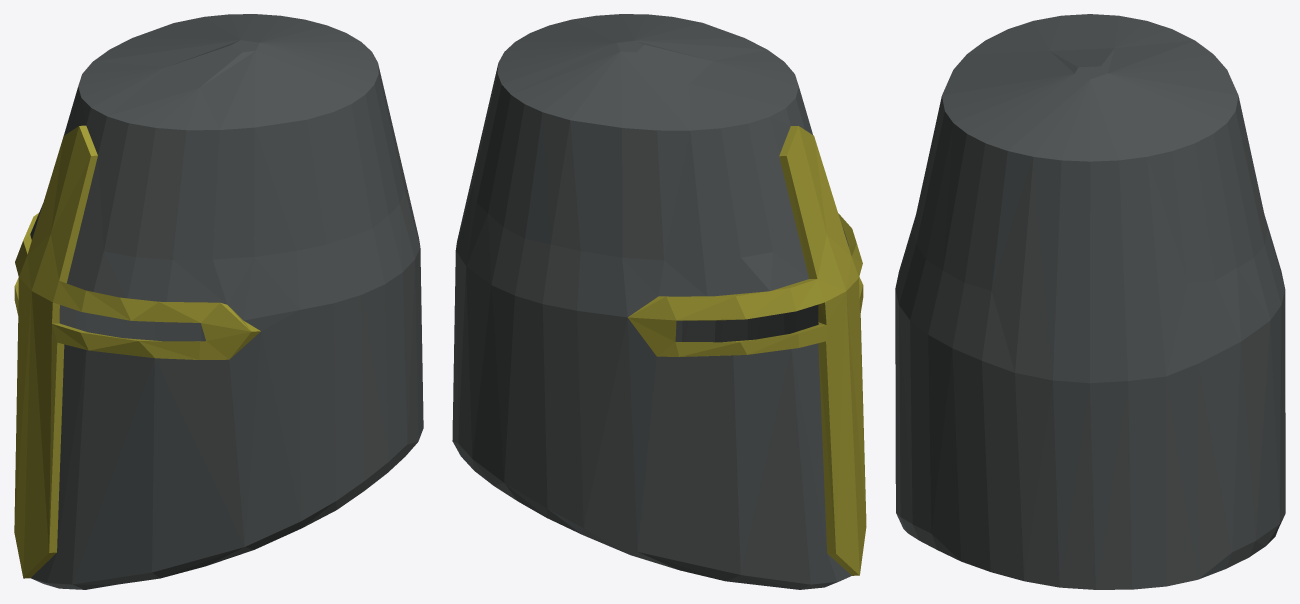
File: Model_HelmKrzyzowca.fbx
3 views of the same model, side by side, from view 1: azimuth 30°, elevation 25°; view 2: azimuth 150°, elevation 25°; view 3: azimuth 270°, elevation 25° (orthographic). The views are drawn at different scales.
Visible parts, largest first — view 1: Mesh_HelmKrzyzowca; view 2: Mesh_HelmKrzyzowca; view 3: Mesh_HelmKrzyzowca.
Boxes of the visible parts, x1,y1,x2,y2 form: Mesh_HelmKrzyzowca: (14, 14, 423, 589); Mesh_HelmKrzyzowca: (452, 14, 866, 589); Mesh_HelmKrzyzowca: (895, 14, 1285, 589).
Bounding box in the file's own units: 21.26 × 32.67 × 26.88.
